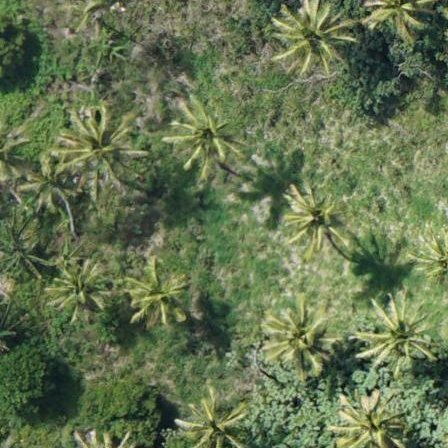palm_tree: (54, 109, 132, 183), (281, 1, 356, 69), (167, 102, 237, 170), (359, 301, 431, 367), (265, 309, 333, 373), (282, 188, 348, 252), (335, 391, 403, 448), (125, 265, 186, 325), (47, 263, 106, 321), (180, 395, 243, 448), (19, 157, 74, 210)
